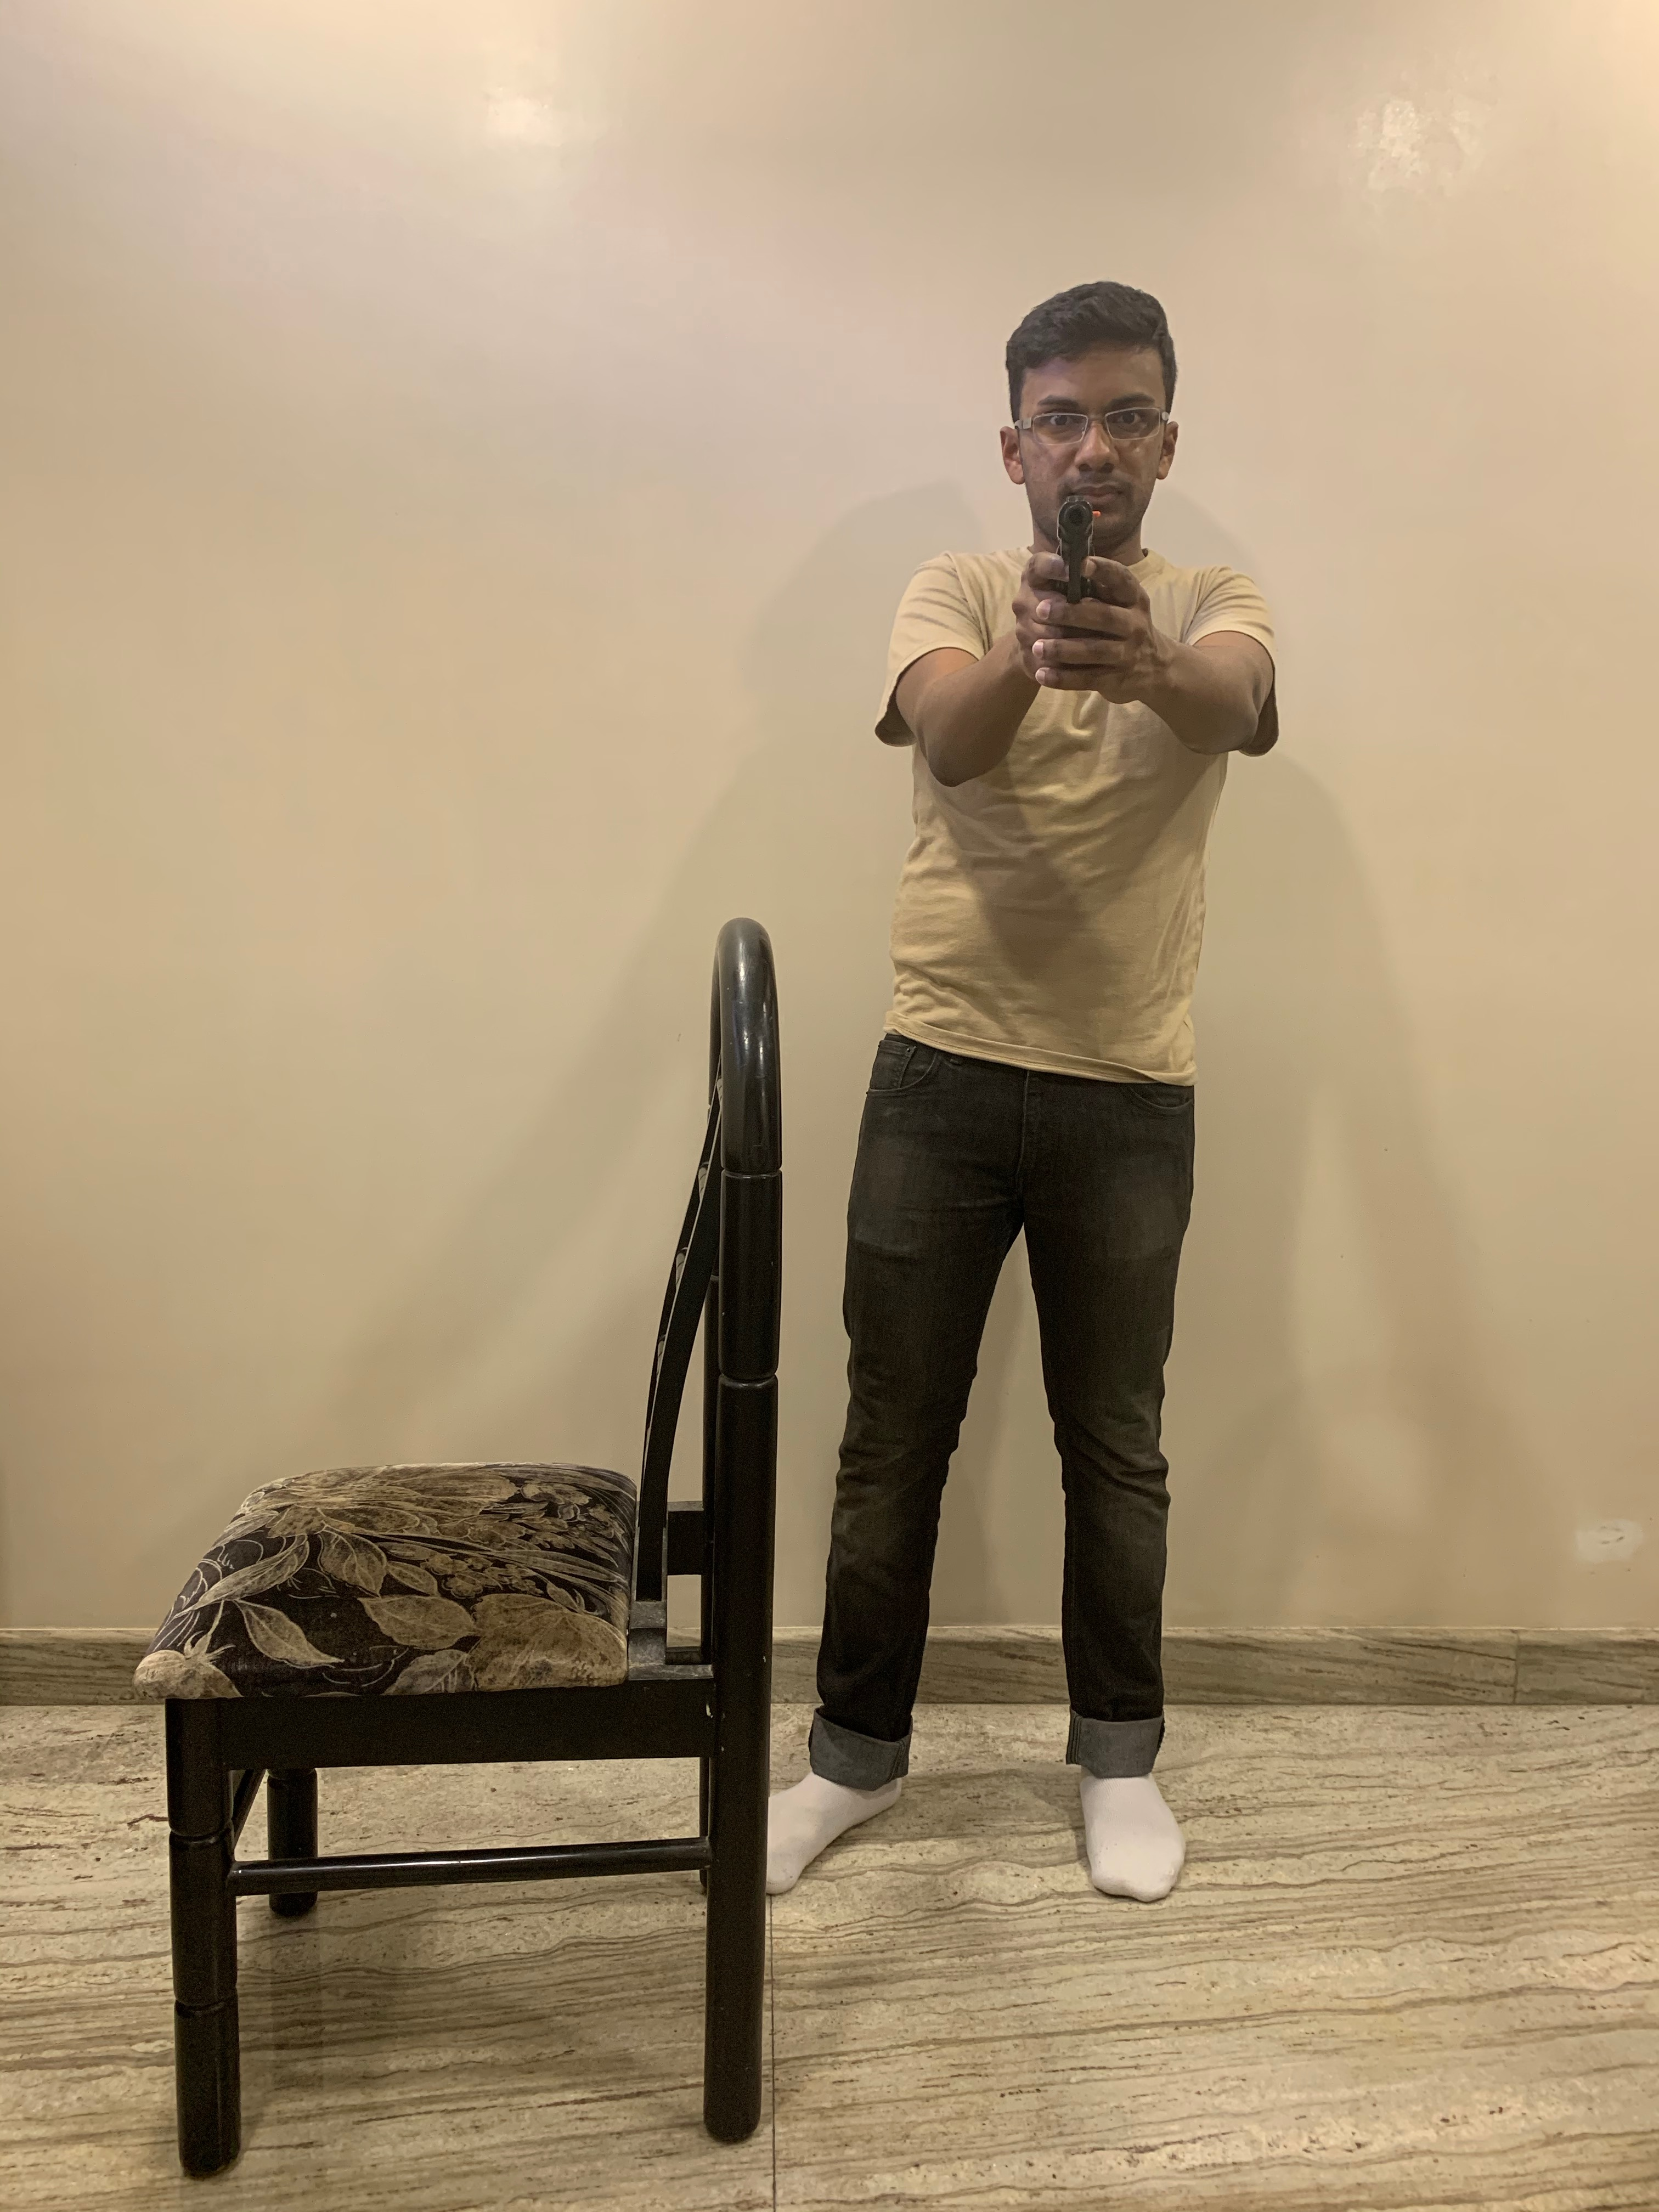gun: (1049, 488, 1103, 639)
